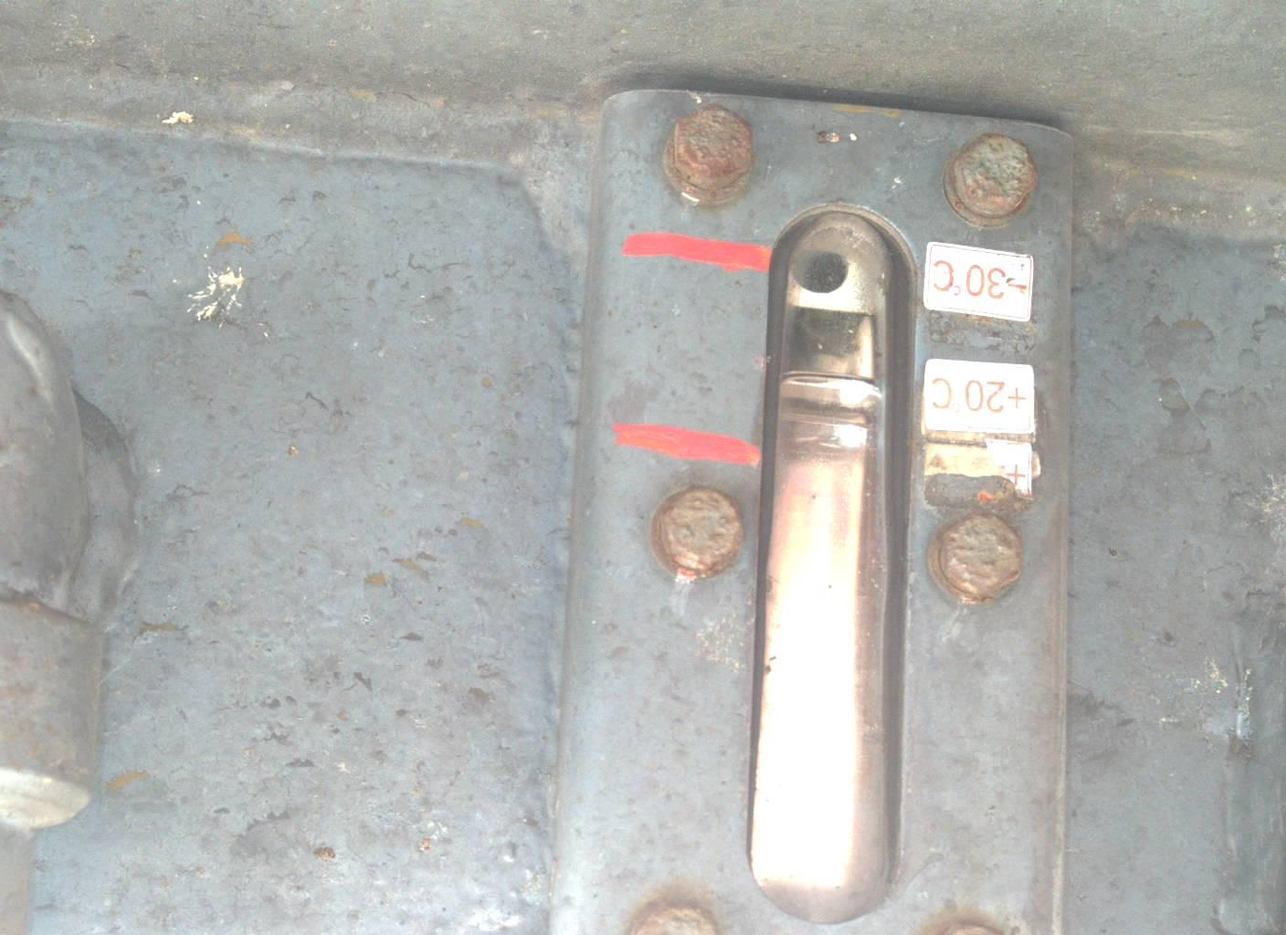oil_level_gauge: (604, 91, 1057, 930)
